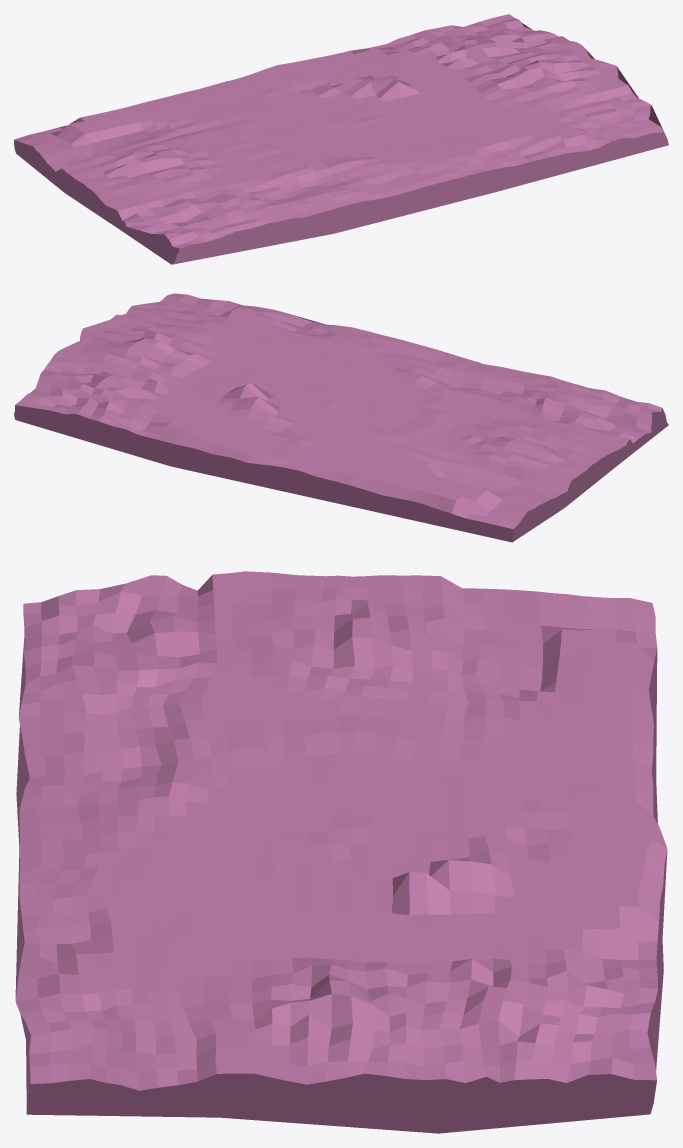
File: zemn8 (1).fbx
3 renders of one model, top to bottom at view 1: azimuth 30°, elevation 25°; view 2: azimuth 150°, elevation 25°; view 3: azimuth 270°, elevation 25°, orthographic. The views are drawn at different scales.
Parts seen in each view (by area): view 1: Plane.022; view 2: Plane.022; view 3: Plane.022.
Boxes of the visible parts, x1,y1,x2,y2 form: Plane.022: [14, 14, 668, 264]; Plane.022: [14, 293, 668, 542]; Plane.022: [15, 571, 667, 1133].
Size of the model in its own units: 5411 by 419 by 2888.
